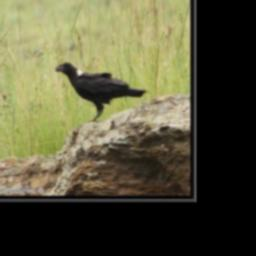Crow: (54, 62, 148, 122)
